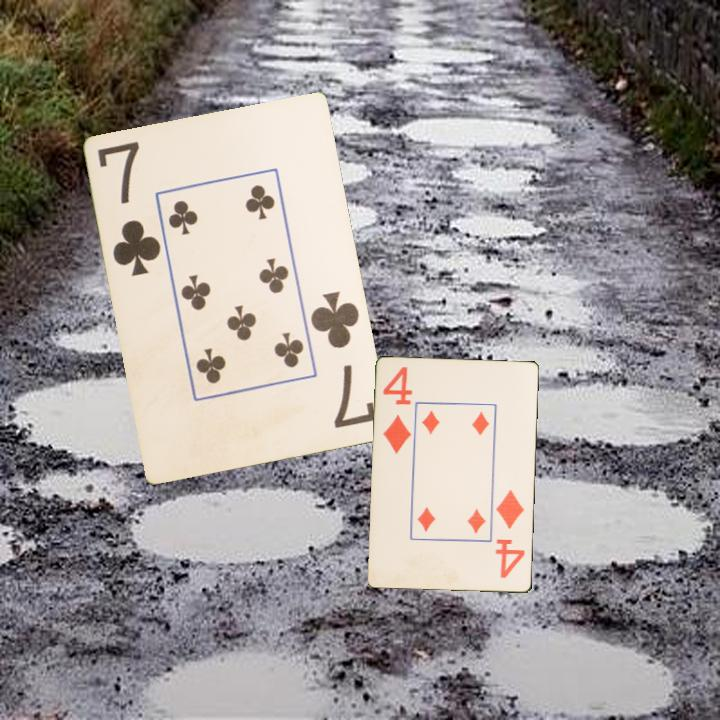4d: (492, 486, 528, 581), (380, 364, 415, 457)
7c: (307, 287, 380, 431), (94, 138, 164, 280)
